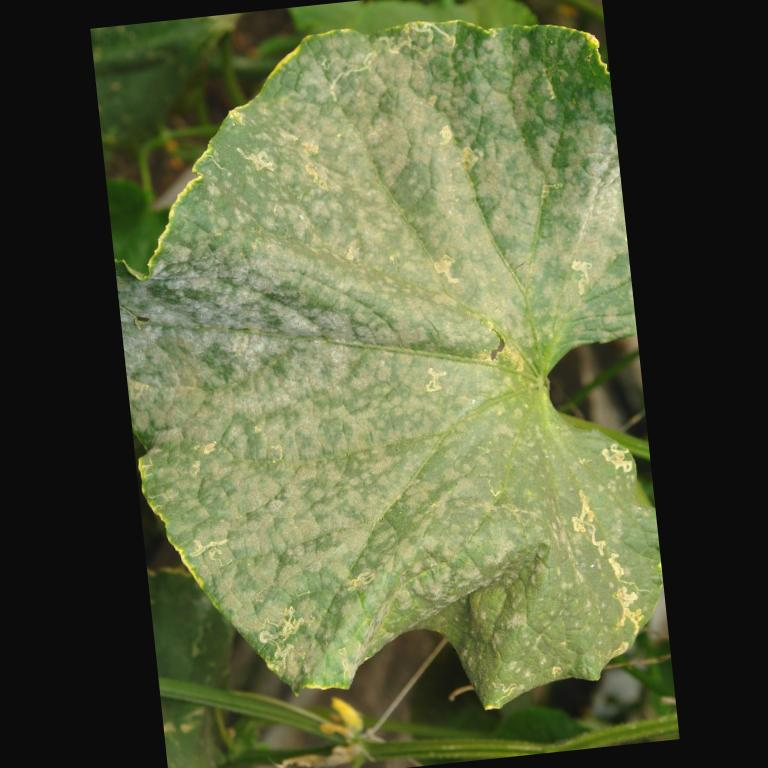powdery-mildew: (163, 236, 369, 434), (219, 424, 416, 616)
